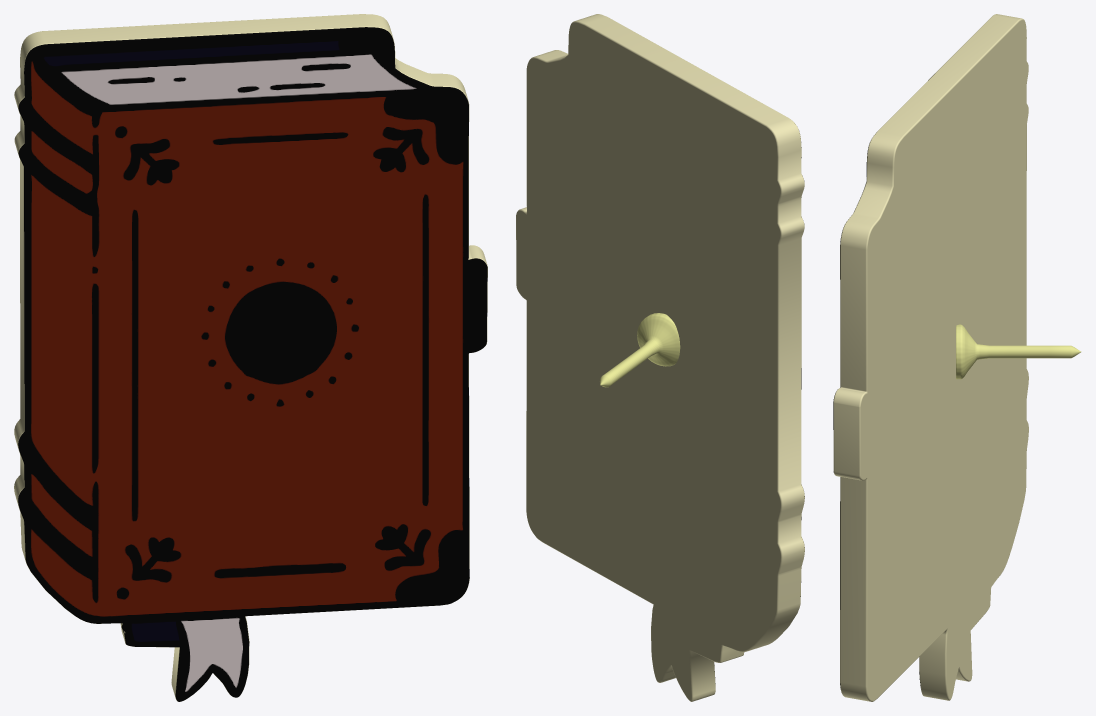
Rendered from 3dpinsmodel.glb.
3 views of the same model, side by side, from view 1: azimuth 30°, elevation 25°; view 2: azimuth 150°, elevation 25°; view 3: azimuth 270°, elevation 25° (orthographic). The views are drawn at different scales.
Visible parts, largest first — view 1: Curve; view 2: Curve, Cylinder; view 3: Curve, Cylinder.
Boxes of the visible parts, bbox=[...] form: Curve: bbox=[14, 14, 487, 701]; Curve: bbox=[516, 14, 804, 701]; Cylinder: bbox=[600, 313, 680, 387]; Curve: bbox=[833, 14, 1028, 701]; Cylinder: bbox=[956, 324, 1081, 379].
Bounding box in the file's own units: 0.6383 × 1.05 × 0.384.
3 materials, 1 textured.
